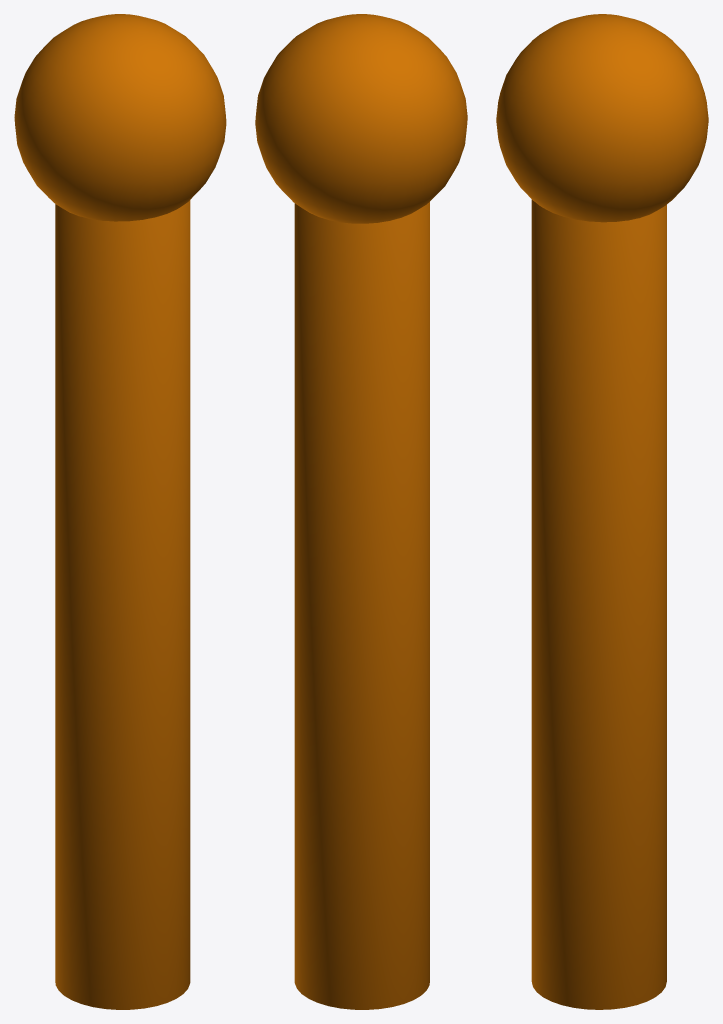
File: bronze rod.fbx
3 views of the same model, side by side, from view 1: azimuth 30°, elevation 25°; view 2: azimuth 150°, elevation 25°; view 3: azimuth 270°, elevation 25° (orthographic).
Parts seen in each view (by area): view 1: bronze rod.017; view 2: bronze rod.017; view 3: bronze rod.017.
Part boxes in pixels (x1=…): bronze rod.017: x1=14, y1=14, x2=226, y2=1009; bronze rod.017: x1=255, y1=14, x2=467, y2=1009; bronze rod.017: x1=496, y1=14, x2=708, y2=1009.
Bounding box in the file's own units: 2.71 × 13.47 × 2.71.
